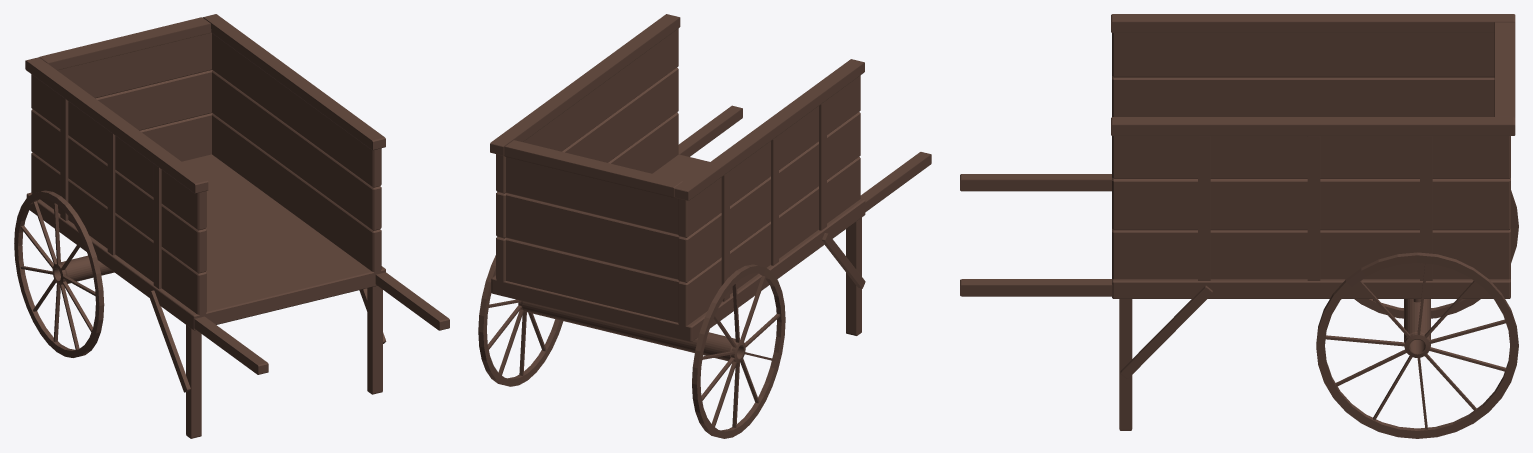
Rendered from cart.fbx.
The picture shows the model from 3 angles, left to right: view 1: azimuth 30°, elevation 25°; view 2: azimuth 150°, elevation 25°; view 3: azimuth 270°, elevation 25°; orthographic projection. The views are drawn at different scales.
Parts seen in each view (by area): view 1: Plane.009; view 2: Plane.009; view 3: Plane.009.
Boxes of the visible parts, bbox=[...] form: Plane.009: bbox=[14, 14, 449, 438]; Plane.009: bbox=[478, 14, 931, 438]; Plane.009: bbox=[960, 14, 1518, 438].
Size of the model in its own units: 145 by 171 by 280.
